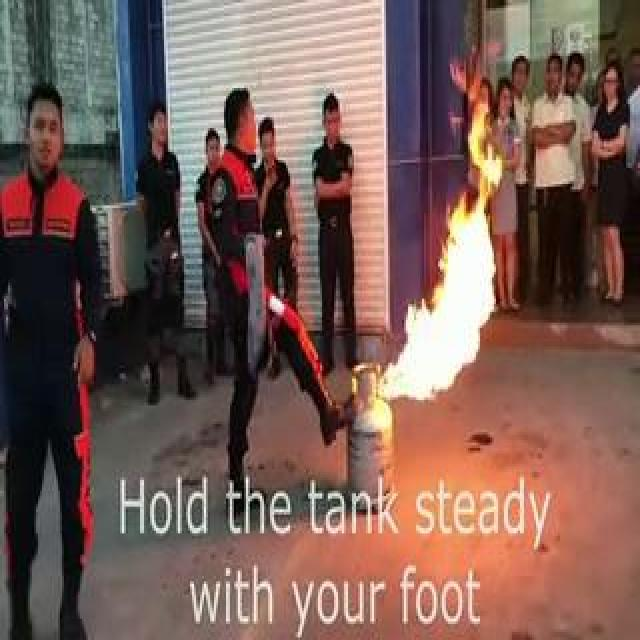Smoke: (401, 90, 471, 410)
